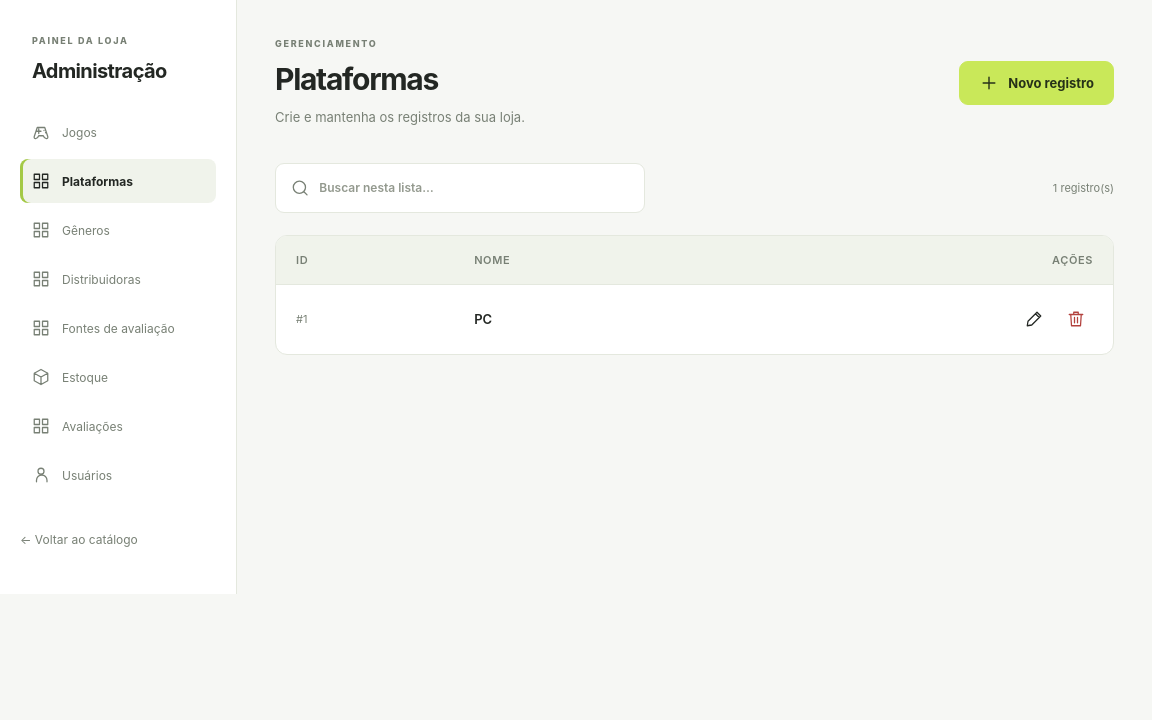
Scenario: Formulários e fluxos do frontend › mantém janela de exclusão aberta quando o banco bloqueia vínculo
This screenshot has width=1152, height=720.
Click the button named "Excluir registro 1". click: (1076, 319)
box: top-left (1058, 302), bottom-right (1093, 337)
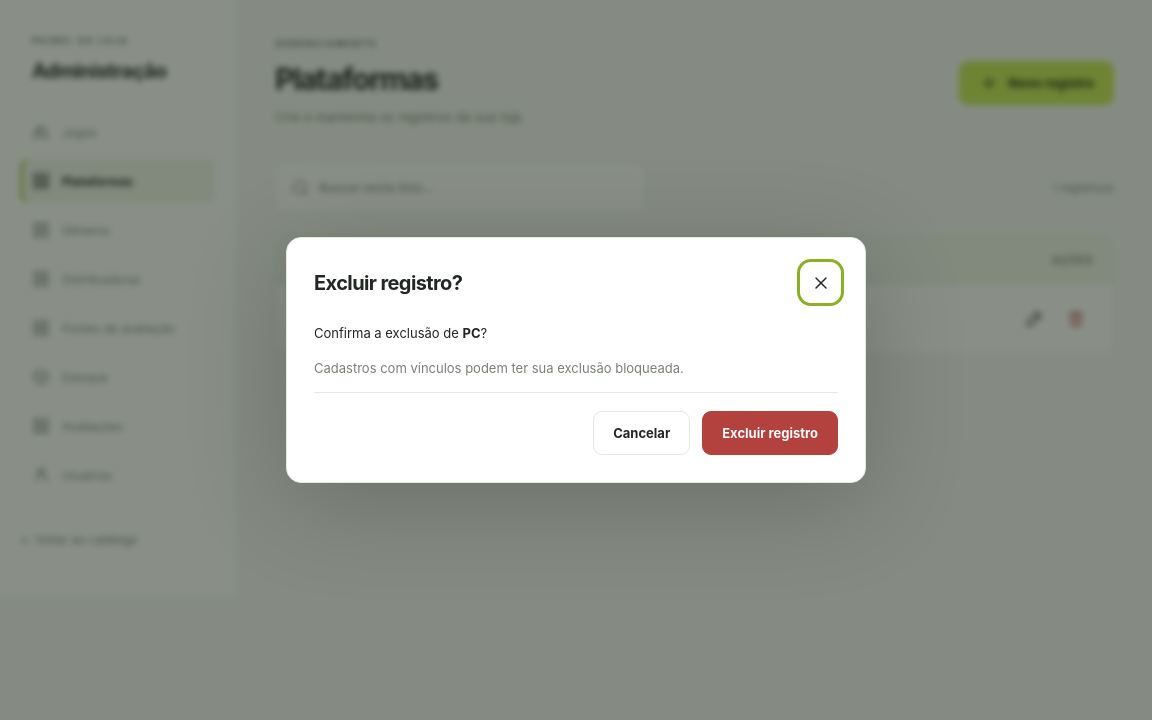
Click the button "Excluir registro". click: (770, 433)
box: top-left (702, 411), bottom-right (838, 455)
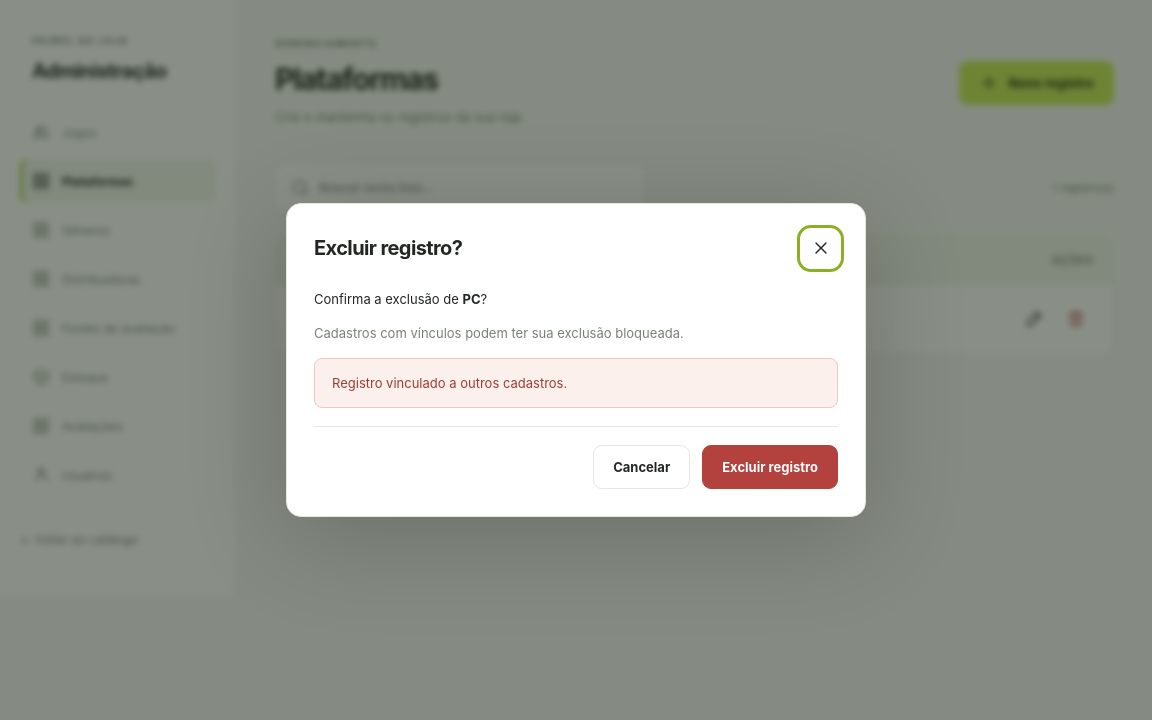
Expected: the dialog is shown, top-left (286, 203), bottom-right (866, 517)
Expected: the message shows "Registro vinculado", top-left (332, 374), bottom-right (567, 390)
